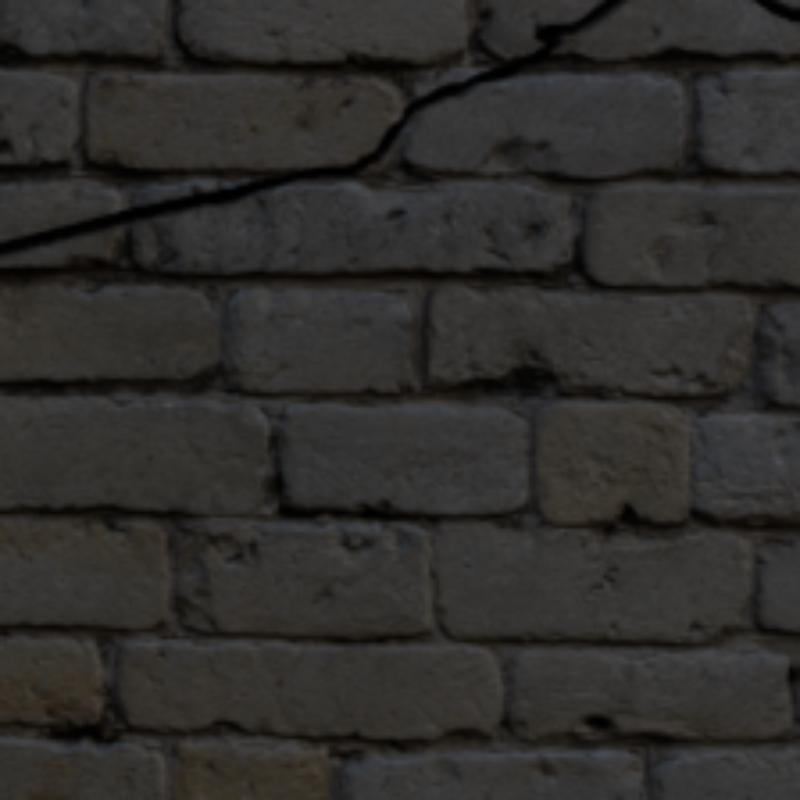pothole: (0, 0, 621, 254), (757, 0, 796, 18)
